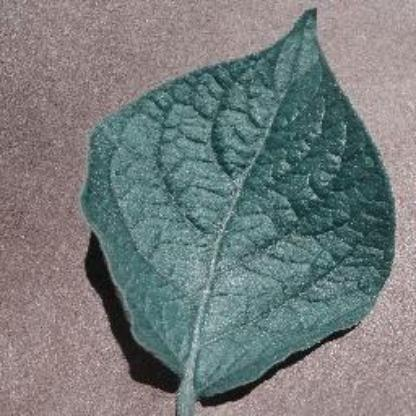Healthy-plant: (54, 18, 402, 406)
